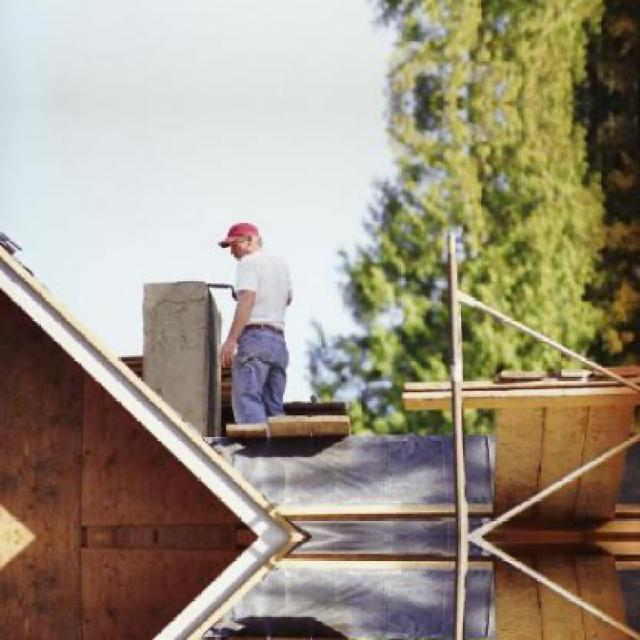helmet: (220, 217, 265, 261)
